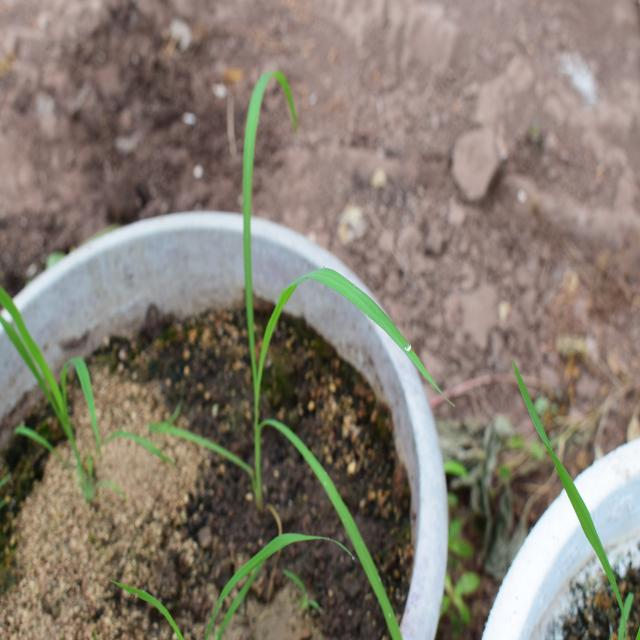barnyard_grass: (158, 59, 422, 560)
